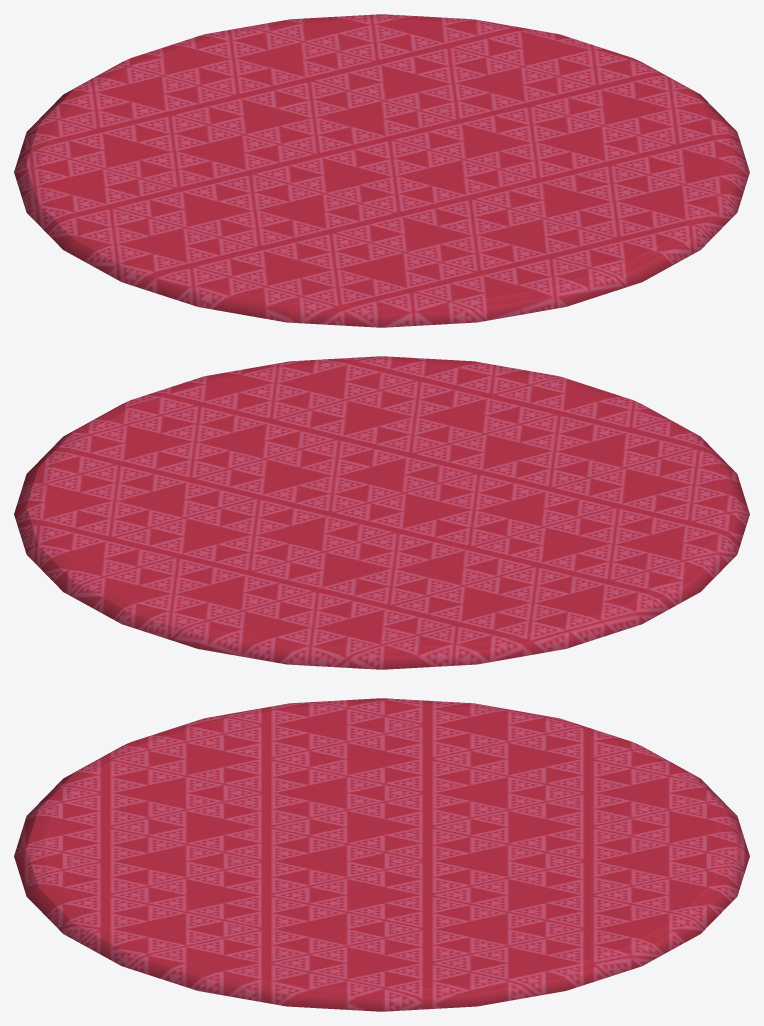
Rendered from Carpet.fbx.
3 renders of one model, top to bottom at view 1: azimuth 30°, elevation 25°; view 2: azimuth 150°, elevation 25°; view 3: azimuth 270°, elevation 25°, orthographic.
Parts seen in each view (by area): view 1: Carpet; view 2: Carpet; view 3: Carpet.
Boxes of the visible parts, left/top/right/bottom form: Carpet: left=14, top=14, right=749, bottom=327; Carpet: left=14, top=356, right=749, bottom=669; Carpet: left=14, top=698, right=749, bottom=1011.
Bounding box in the file's own units: 10.04 × 0.1454 × 10.04.
1 material, 1 textured.
